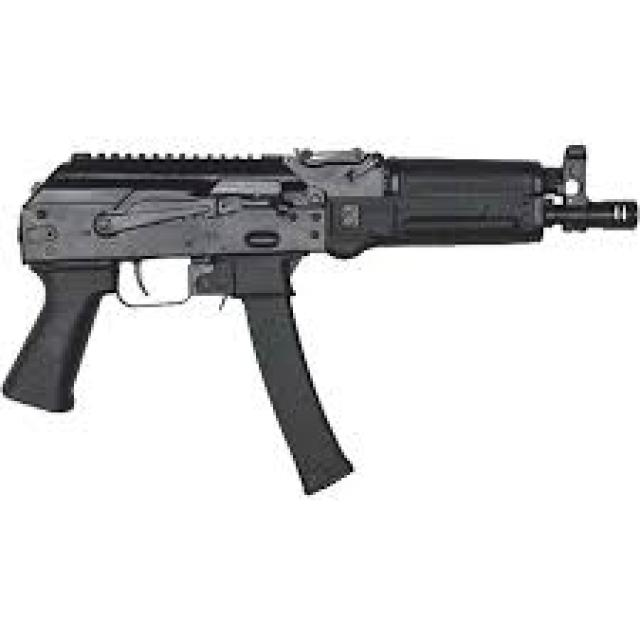rifle: (1, 134, 640, 508)
